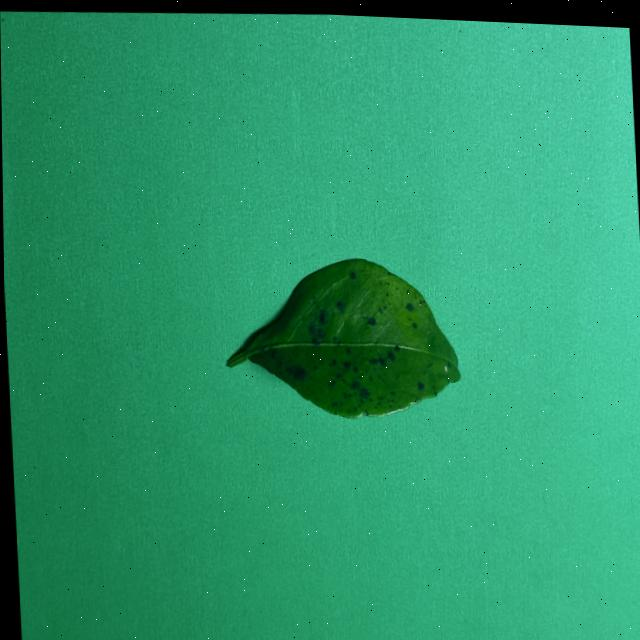sooty_mold: (227, 259, 459, 417)
